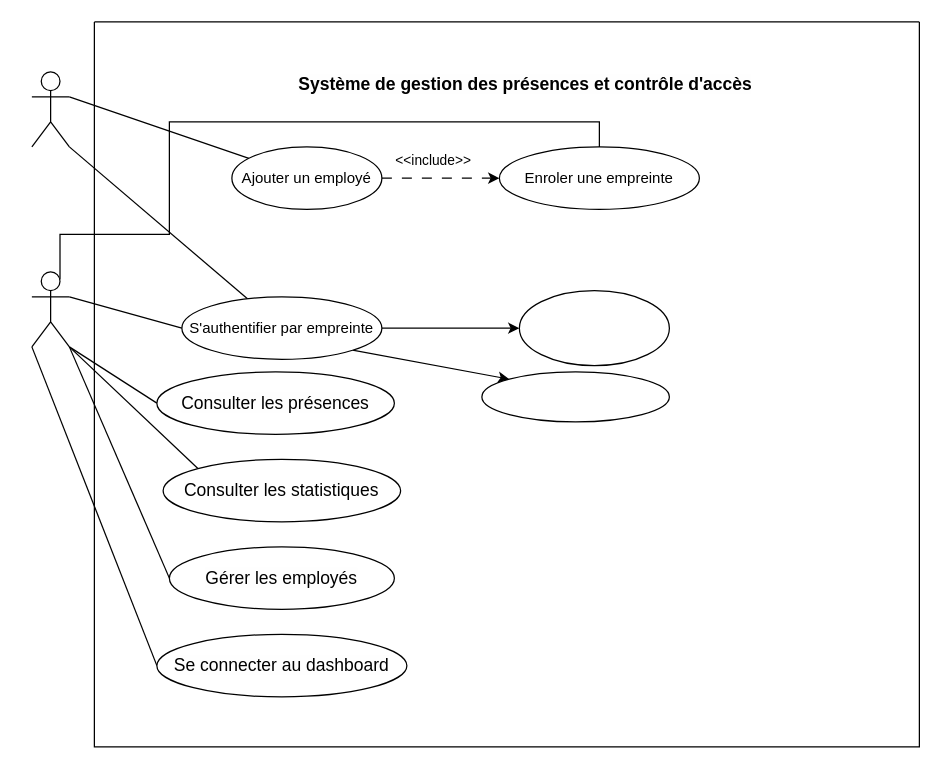
This 941x769 diagram has some shape labels left out. Each missing label, with the centre of its shape:
"Accéder à une zone" goes at [593,327].
"Admin" goes at [50,309].
"Employé" goes at [50,109].
"enregistrer sa présence" goes at [575,396].
